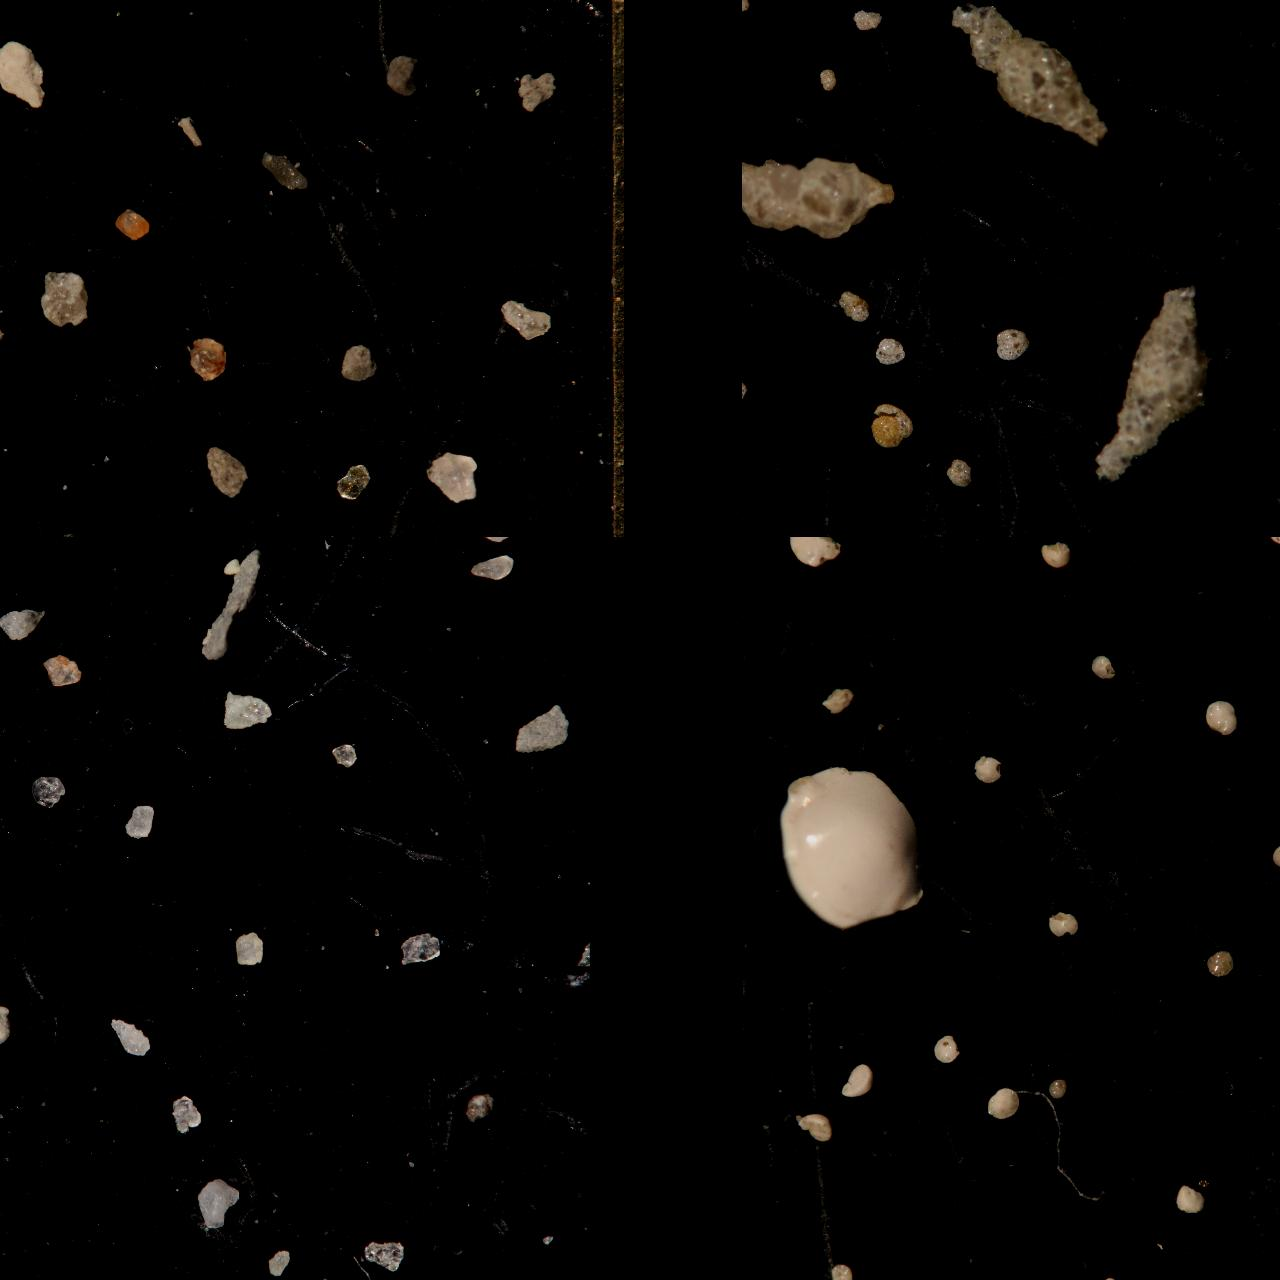Sediment: (200, 549, 261, 660), (0, 38, 45, 109), (423, 451, 478, 505), (515, 702, 568, 756), (41, 270, 89, 328), (196, 1176, 240, 1231), (204, 447, 248, 499), (499, 298, 551, 342), (258, 149, 309, 193), (222, 692, 272, 731), (467, 537, 519, 574), (188, 338, 229, 383), (109, 1016, 151, 1057), (0, 607, 46, 644), (383, 52, 418, 98), (518, 70, 556, 114), (361, 1238, 406, 1274), (365, 537, 424, 564), (340, 343, 377, 384), (399, 932, 441, 968), (0, 1000, 25, 1058), (41, 654, 82, 689), (0, 588, 26, 642), (114, 207, 152, 243), (336, 464, 372, 502), (170, 1095, 202, 1136), (30, 774, 66, 810), (470, 554, 515, 583), (181, 537, 226, 563), (0, 537, 47, 561), (0, 1065, 22, 1116), (463, 1090, 497, 1123), (0, 908, 25, 953), (5, 537, 54, 559), (172, 0, 229, 19), (236, 932, 265, 967), (125, 805, 155, 840), (567, 942, 588, 990), (0, 306, 23, 346), (177, 115, 203, 150), (246, 537, 285, 559), (0, 688, 20, 730), (266, 1247, 291, 1279), (94, 537, 139, 553), (0, 769, 20, 806), (0, 149, 18, 189), (332, 743, 356, 769), (0, 685, 18, 719), (18, 0, 50, 18), (0, 927, 18, 960), (359, 0, 387, 16), (64, 537, 94, 552), (571, 537, 588, 561), (120, 537, 145, 553), (222, 557, 241, 577), (0, 0, 16, 21), (0, 537, 23, 550), (503, 537, 523, 551), (0, 537, 13, 554)
agglutinated: (949, 5, 1108, 148), (1096, 287, 1206, 483), (742, 154, 893, 240), (742, 0, 838, 57), (836, 0, 952, 30), (871, 406, 912, 449), (998, 328, 1029, 361), (1114, 0, 1155, 21), (839, 293, 869, 322), (835, 0, 870, 22), (946, 457, 971, 489), (874, 340, 903, 367), (853, 7, 883, 30), (917, 0, 956, 16), (885, 0, 915, 18), (1090, 0, 1117, 18), (819, 67, 837, 93), (742, 0, 764, 20), (994, 0, 1024, 13), (742, 35, 751, 75), (742, 377, 754, 407), (742, 0, 757, 20), (1012, 0, 1034, 13), (742, 294, 754, 316), (742, 0, 757, 16), (742, 178, 753, 200), (742, 0, 762, 12), (742, 0, 756, 14), (742, 0, 755, 15), (742, 188, 749, 215), (742, 0, 751, 12)
calcareous: (778, 765, 924, 933), (788, 537, 840, 568), (842, 1061, 874, 1099), (1204, 699, 1237, 735), (987, 1085, 1020, 1121), (797, 1111, 833, 1143), (819, 686, 852, 716), (1176, 1184, 1204, 1217), (932, 1033, 960, 1065), (974, 753, 1002, 785), (1039, 542, 1071, 570), (1047, 911, 1077, 939), (1205, 949, 1233, 979), (1090, 654, 1116, 682), (1118, 537, 1148, 556), (756, 537, 787, 554), (829, 1262, 853, 1280), (1049, 1077, 1068, 1099), (945, 537, 971, 551), (1264, 537, 1280, 557), (1272, 842, 1280, 870), (1098, 1274, 1119, 1280)
